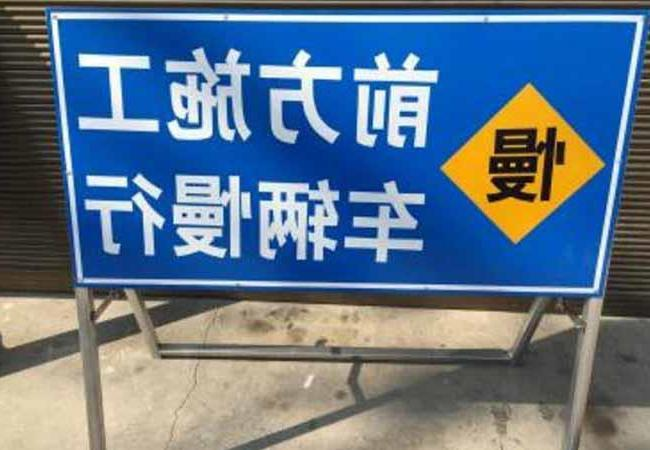sign: (51, 11, 643, 292)
